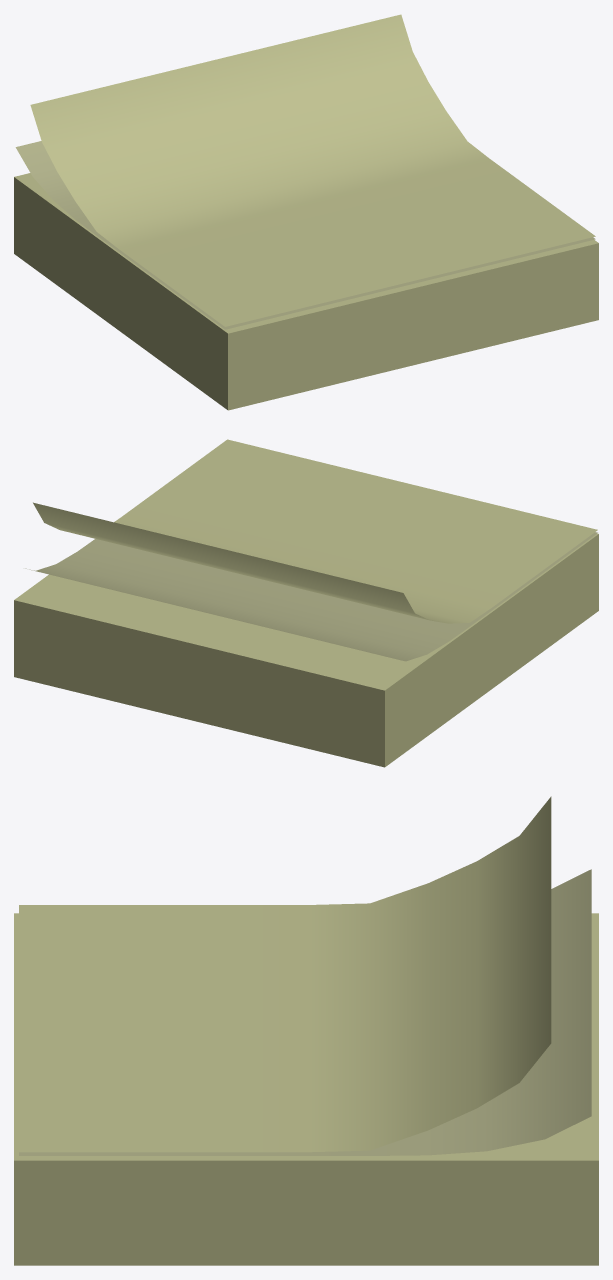
File: Post-It Stack.fbx
3 renders of one model, top to bottom at view 1: azimuth 30°, elevation 25°; view 2: azimuth 150°, elevation 25°; view 3: azimuth 270°, elevation 25°, orthographic. The views are drawn at different scales.
Visible parts, largest first — view 1: pPlane31; view 2: pPlane31; view 3: pPlane31.
Boxes of the visible parts, x1=… form: pPlane31: x1=14, y1=14, x2=598, y2=410; pPlane31: x1=14, y1=439, x2=598, y2=767; pPlane31: x1=14, y1=796, x2=598, y2=1265.
Size of the model in its own units: 1 by 0.4174 by 1.
